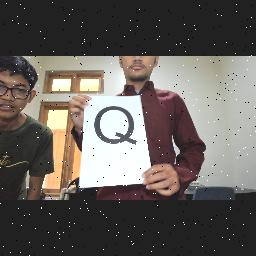q: (92, 104, 142, 150)
